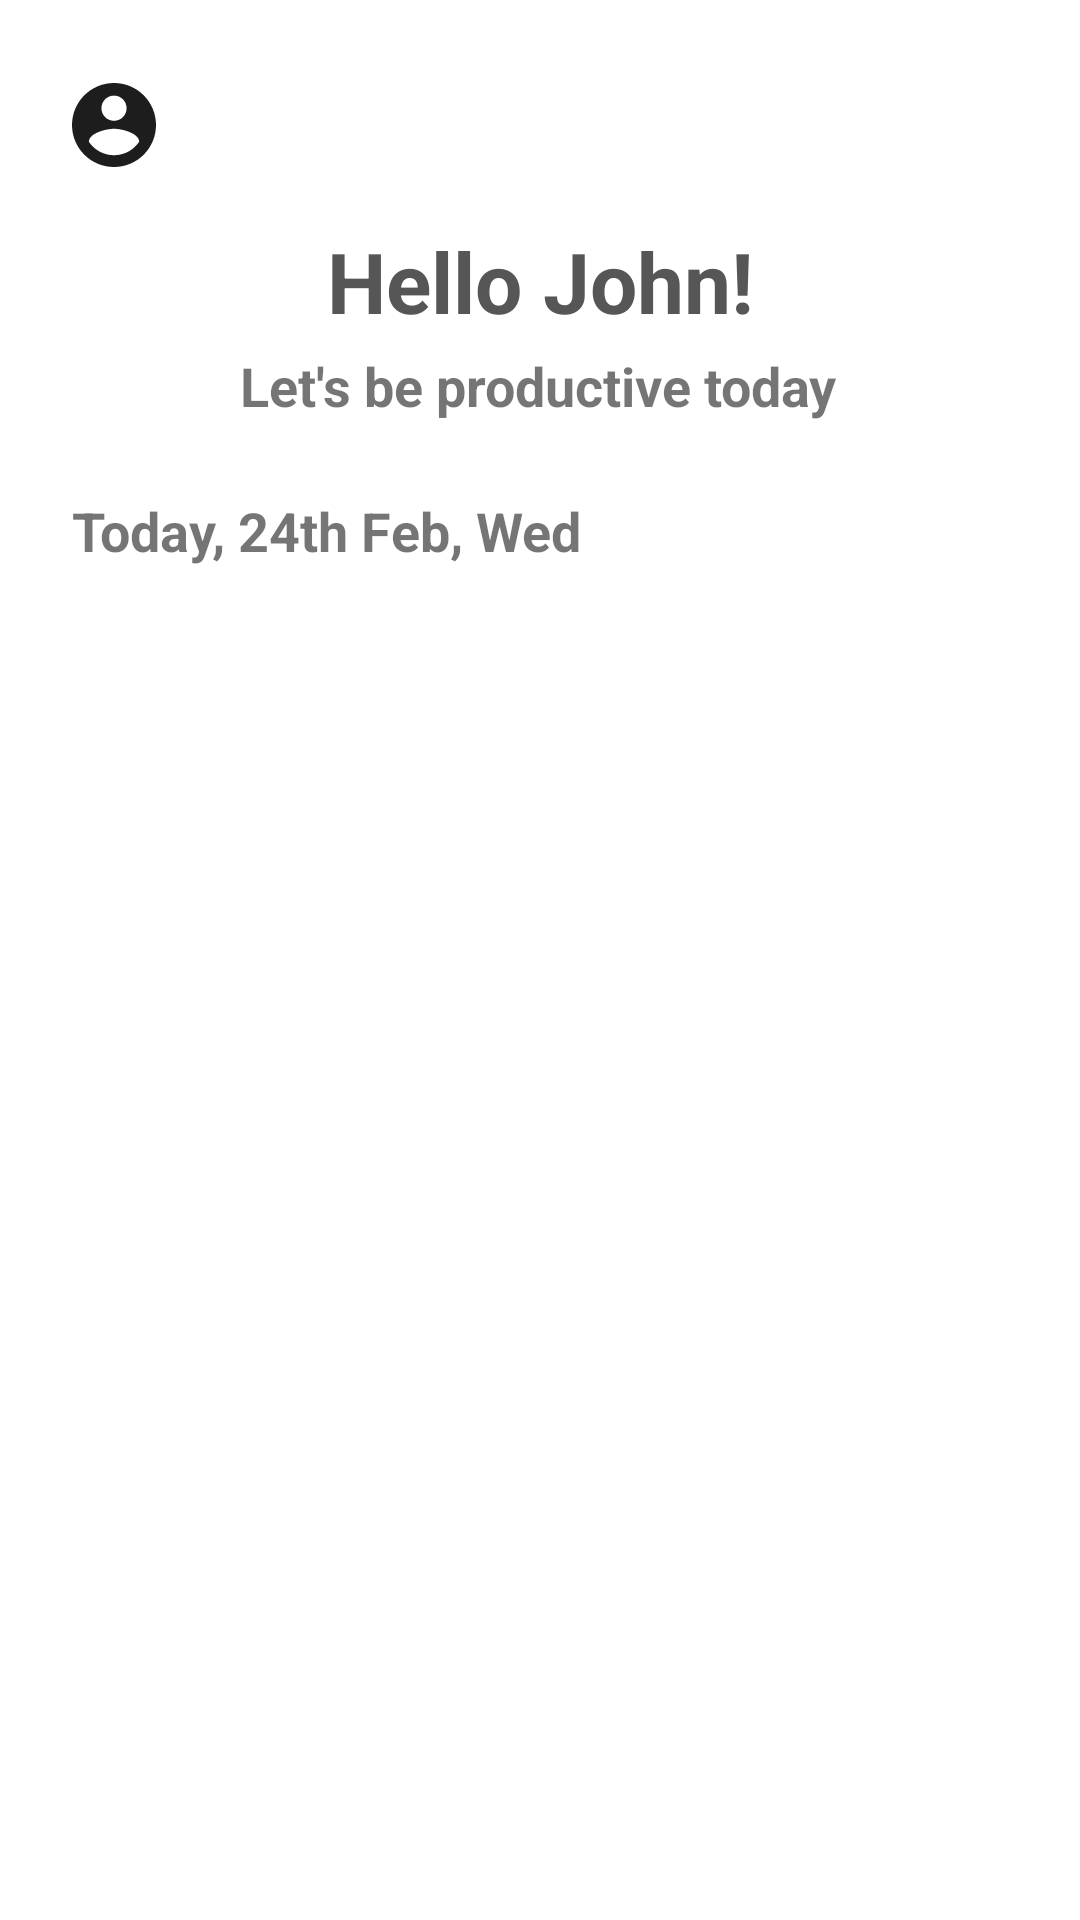

Screen size 1080*1920. Icon name, then its box in pixels as (left=x1, top=y1, right=x2, bottom=y2):
profile: (left=72, top=83, right=156, bottom=167)
